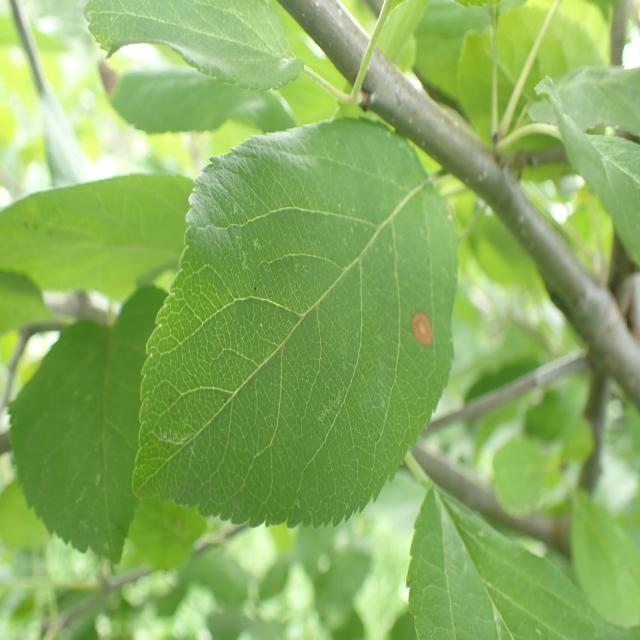frog-eye-leaf-spot: (130, 117, 460, 530)
